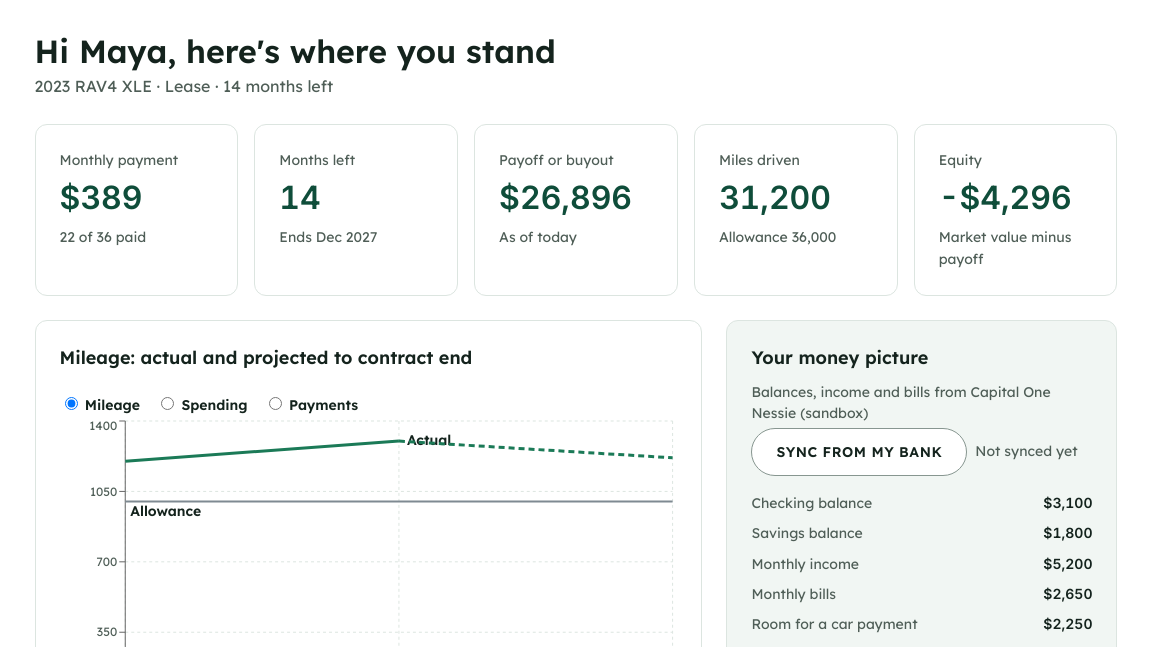
Payments view (FR-040) › is a third choice beside mileage and spending, and asks for nothing until chosen
This screenshot has width=1152, height=647.
Expected: the heading "Hi Maya, here's where you stand" is shown, left=34, top=31, right=556, bottom=71
Click the radio button labelled "Payments" at (275, 403), box left=269, top=397, right=282, bottom=410
(page scrolled)
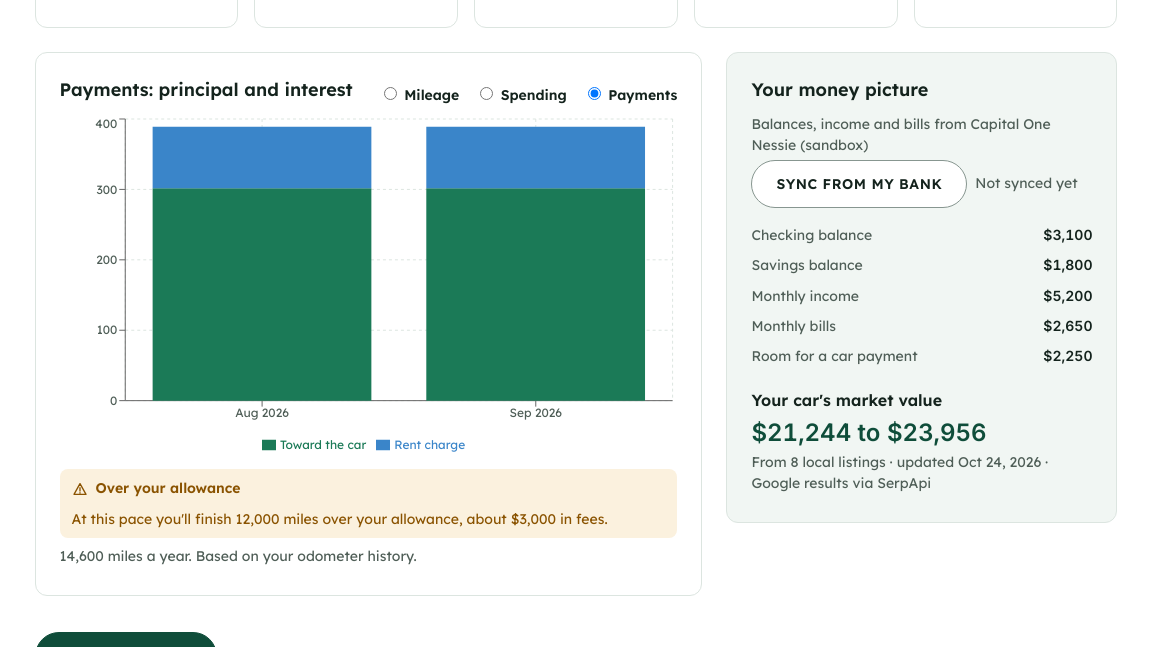
Now the heading "Payments: principal and interest" is shown, box left=60, top=76, right=352, bottom=102
Now the element named "Monthly payments split into principal and interest" is shown, box left=60, top=114, right=677, bottom=461
